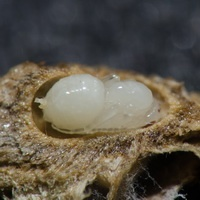insect: (0, 63, 199, 199), (34, 74, 162, 133)
